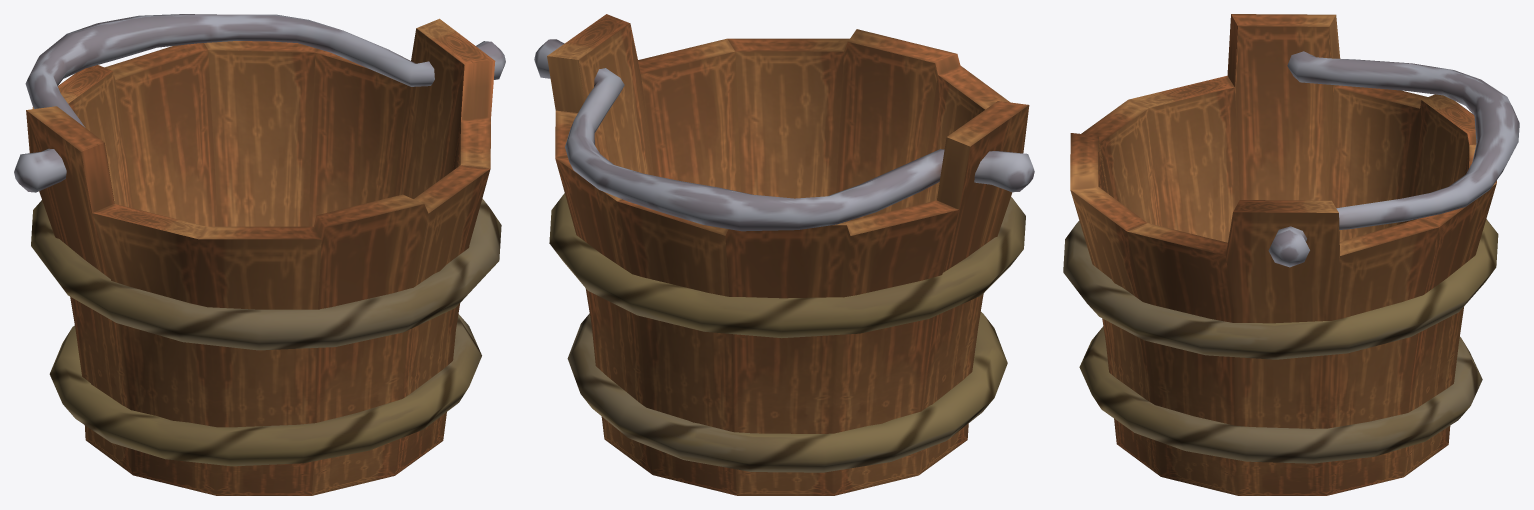
Rendered from bucket_wooden_1.glb.
3 renders of one model, left to right at view 1: azimuth 30°, elevation 25°; view 2: azimuth 150°, elevation 25°; view 3: azimuth 270°, elevation 25°, orthographic. The views are drawn at different scales.
Visible parts, largest first — view 1: Bucket_Wooden_1; view 2: Bucket_Wooden_1; view 3: Bucket_Wooden_1.
Boxes of the visible parts, x1,y1,x2,y2 form: Bucket_Wooden_1: [14, 14, 505, 495]; Bucket_Wooden_1: [534, 14, 1034, 495]; Bucket_Wooden_1: [1063, 14, 1519, 495].
Size of the model in its own units: 0.4339 by 0.2928 by 0.3835.
2 materials, 2 textured.
